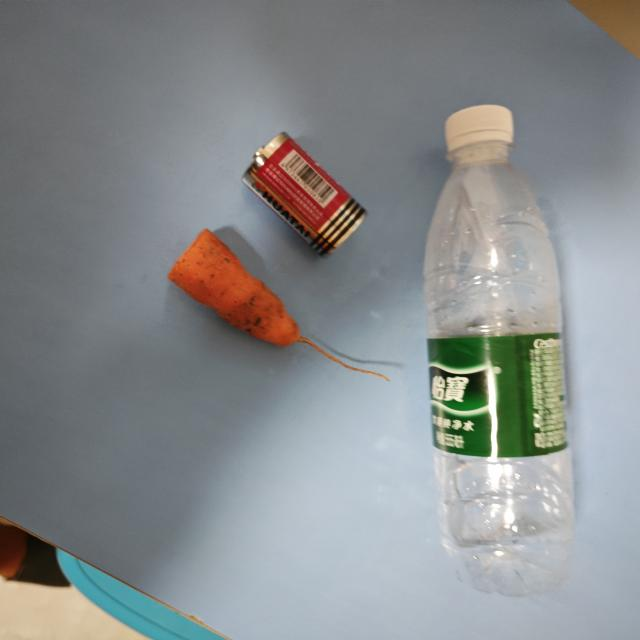-Hazardous waste - battery-: (244, 121, 370, 257)
-Kitchen waste - carrot-: (165, 229, 306, 354)
-Recyclables - plastic bottle-: (427, 100, 578, 591)
